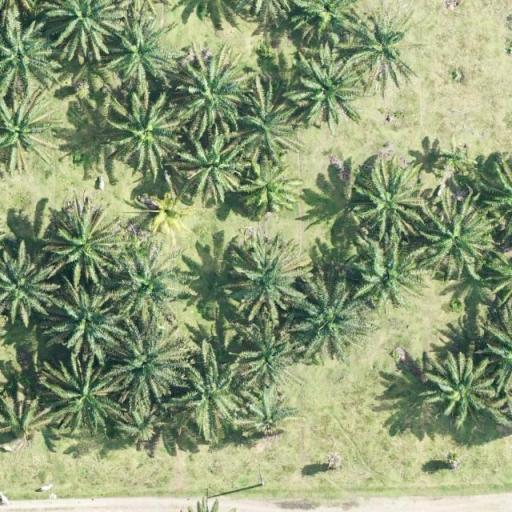Ganoderma: (360, 25, 406, 67), (148, 194, 186, 232)
